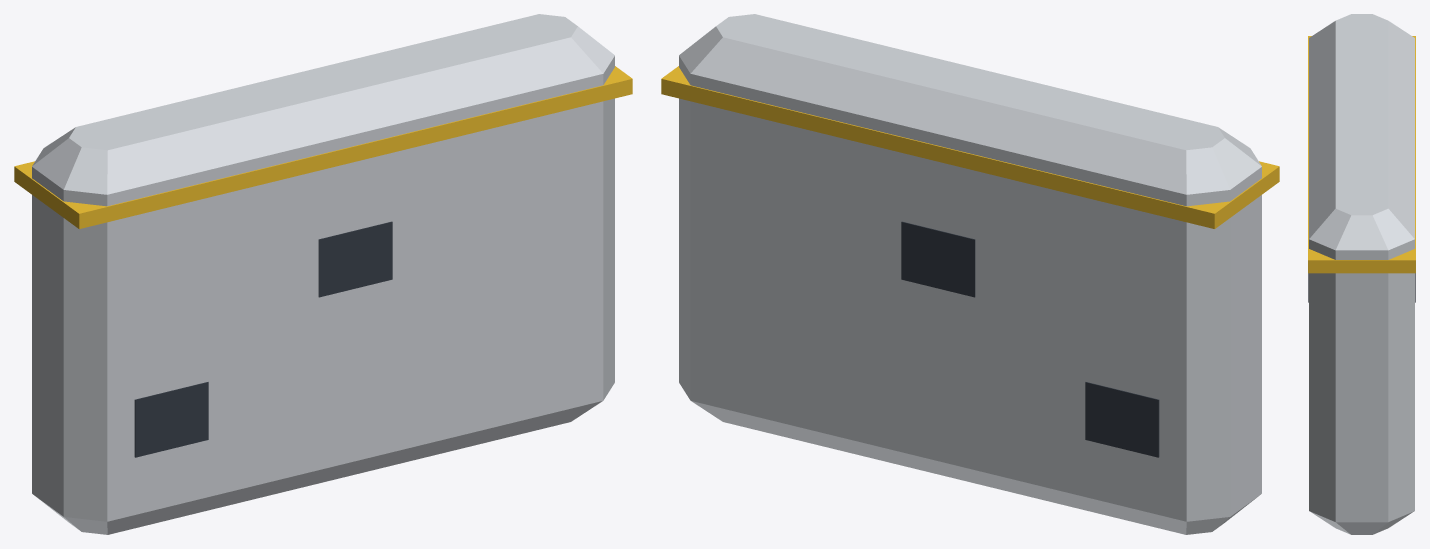
Rendered from wall_with_ports.glb.
The picture shows the model from 3 angles, left to right: view 1: azimuth 30°, elevation 25°; view 2: azimuth 150°, elevation 25°; view 3: azimuth 270°, elevation 25°; orthographic projection. The views are drawn at different scales.
Parts seen in each view (by area): view 1: wall_with_ports; view 2: wall_with_ports; view 3: wall_with_ports.
Boxes of the visible parts, <box> form: wall_with_ports: <box>14,14,632,534</box>; wall_with_ports: <box>661,14,1279,534</box>; wall_with_ports: <box>1308,14,1415,534</box>.
Bounding box in the file's own units: 3.01 × 2 × 0.612.
